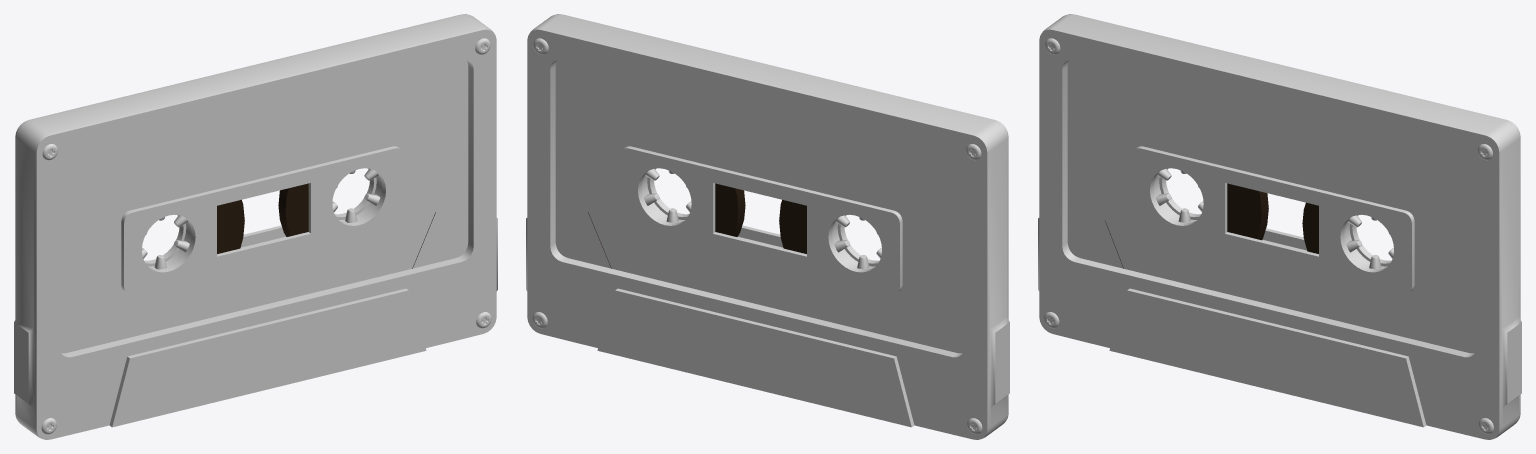
Rendered from Cassette.fbx.
3 views of the same model, side by side, from view 1: azimuth 30°, elevation 25°; view 2: azimuth 150°, elevation 25°; view 3: azimuth 330°, elevation 25° (orthographic).
Visible parts, largest first — view 1: Tape on Spool; view 2: Tape on Spool; view 3: Tape on Spool.
Boxes of the visible parts, left/top/right/bottom form: Tape on Spool: left=14, top=14, right=497, bottom=439; Tape on Spool: left=526, top=14, right=1009, bottom=439; Tape on Spool: left=1038, top=14, right=1521, bottom=439.
Bounding box in the file's own units: 498 × 310 × 49.28.
